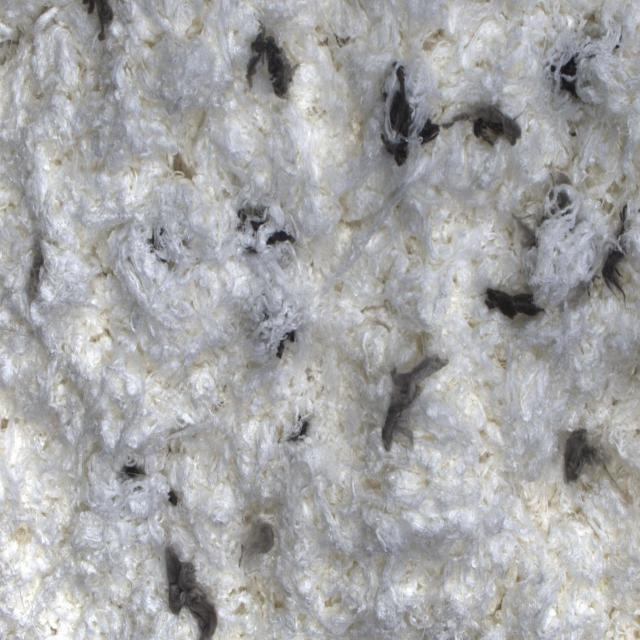dust: (511, 168, 640, 315), (545, 0, 640, 119), (373, 350, 456, 453), (540, 390, 604, 513), (3, 208, 72, 318), (233, 17, 314, 108), (420, 92, 530, 152), (160, 537, 221, 640), (235, 188, 299, 284), (240, 483, 289, 596), (379, 55, 420, 177), (473, 272, 554, 332), (275, 391, 316, 495), (165, 106, 216, 184), (245, 296, 307, 358), (75, 0, 127, 56), (115, 438, 152, 513), (146, 223, 189, 275), (162, 481, 185, 517)
